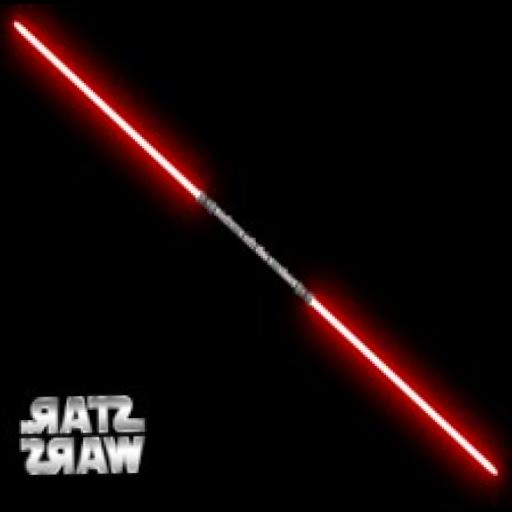sith saber: (5, 9, 502, 483)
